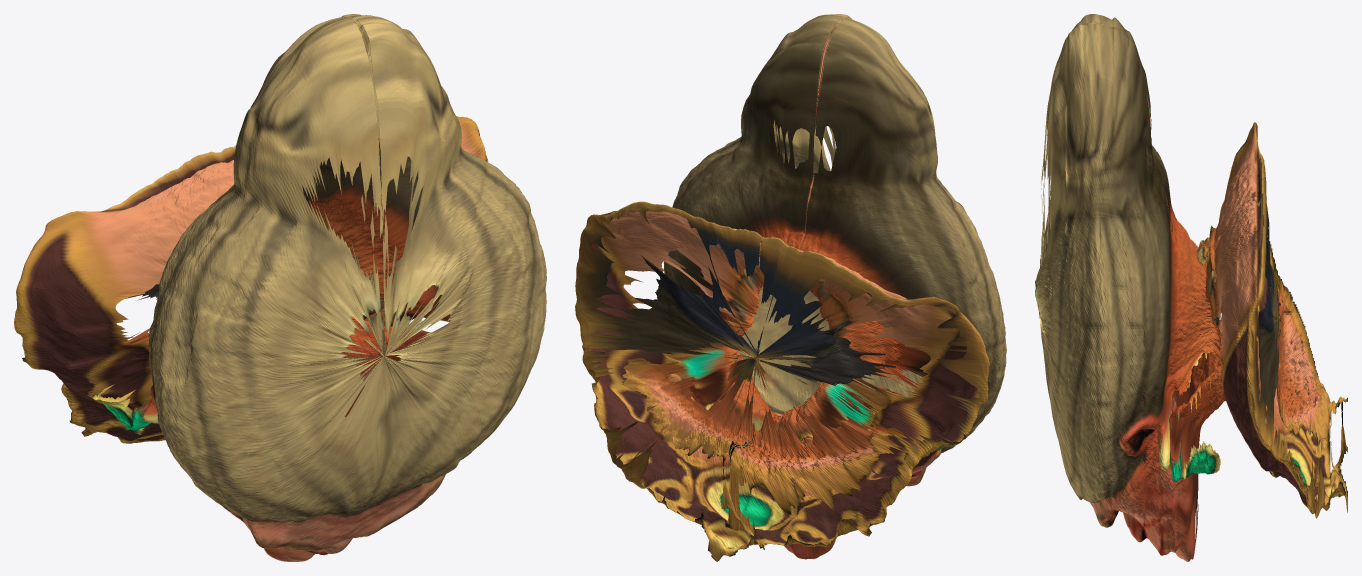
The picture shows the model from 3 angles, left to right: view 1: azimuth 30°, elevation 25°; view 2: azimuth 150°, elevation 25°; view 3: azimuth 270°, elevation 25°; orthographic projection. The views are drawn at different scales.
Parts seen in each view (by area): view 1: geometry_0; view 2: geometry_0; view 3: geometry_0.
Boxes of the visible parts, x1,y1,x2,y2 form: geometry_0: [14, 14, 546, 561]; geometry_0: [575, 14, 1006, 561]; geometry_0: [1035, 14, 1347, 561].
Bounding box in the file's own units: 1.54 × 1.79 × 0.9452.
Materials: 1 (1 with a texture image).
